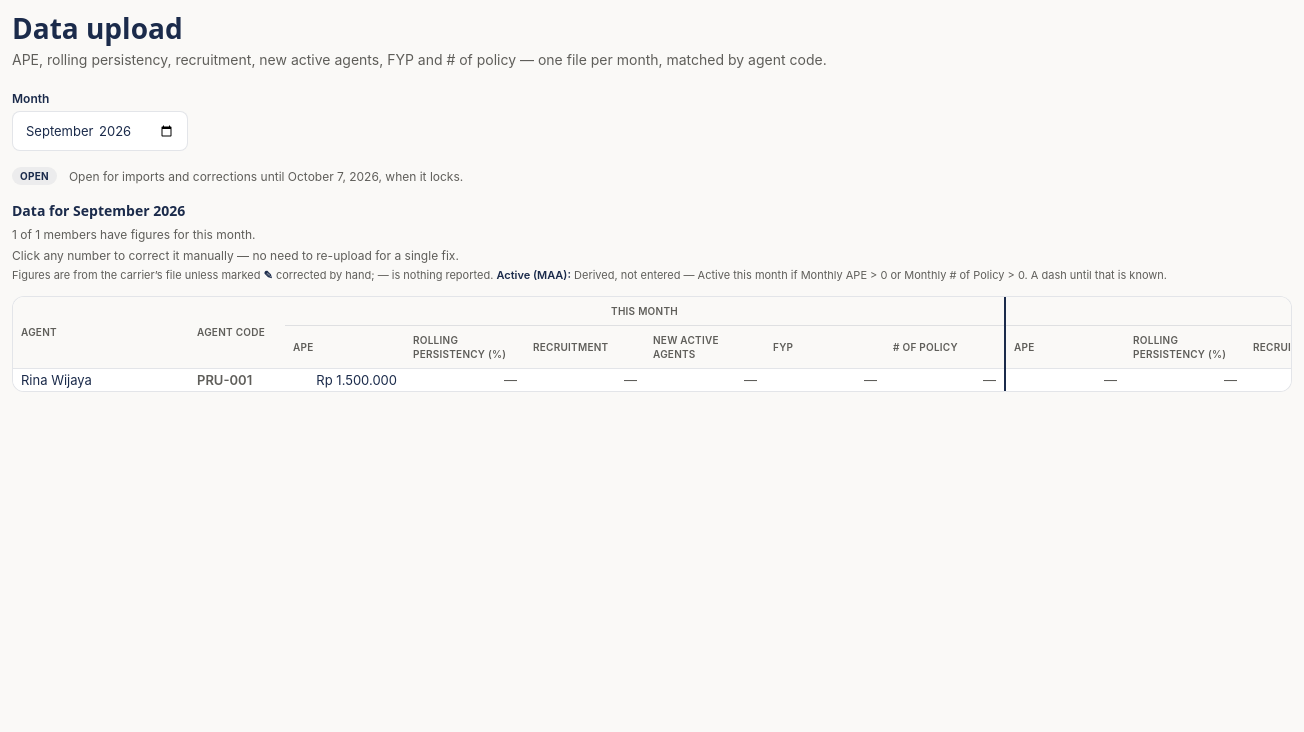
Test: Data upload — correcting one figure (P9-T5) › opens on the figure: what it reads now and where it came from, typed in rupiah, grouped
Click the button with aria-label "Correct APE this month for Rina Wijaya, now Rp 1.500.000".
click(357, 380)  # box [312,372,401,388]
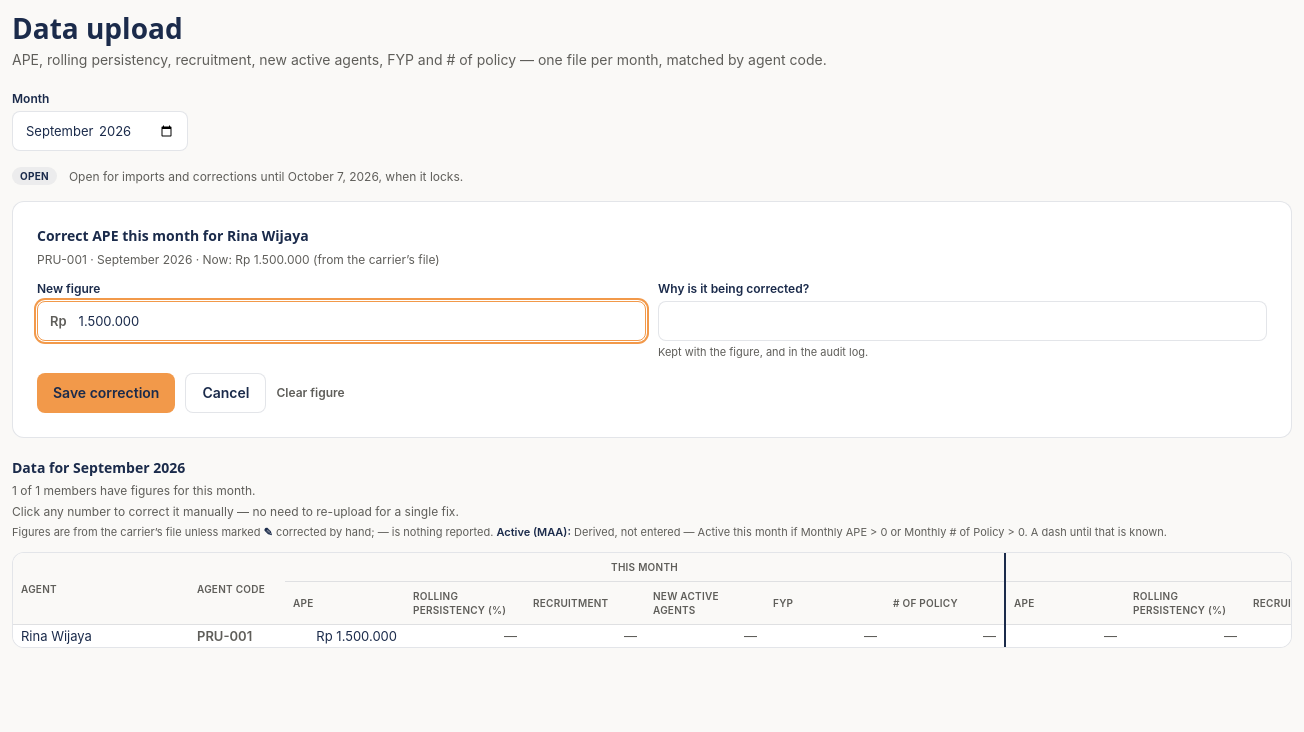
Check: the element "Correct APE this month for Rina Wijaya" shows "PRU-001 · September 2026 · Now: Rp 1.500.000 (from the carrier’s file)", box [12,201,1292,438]
Check: the field labelled "New figure" holds "1.500.000"
Replace the text in the field labelled "New figure" with "2000000" at (362, 321), box [79,302,645,340]
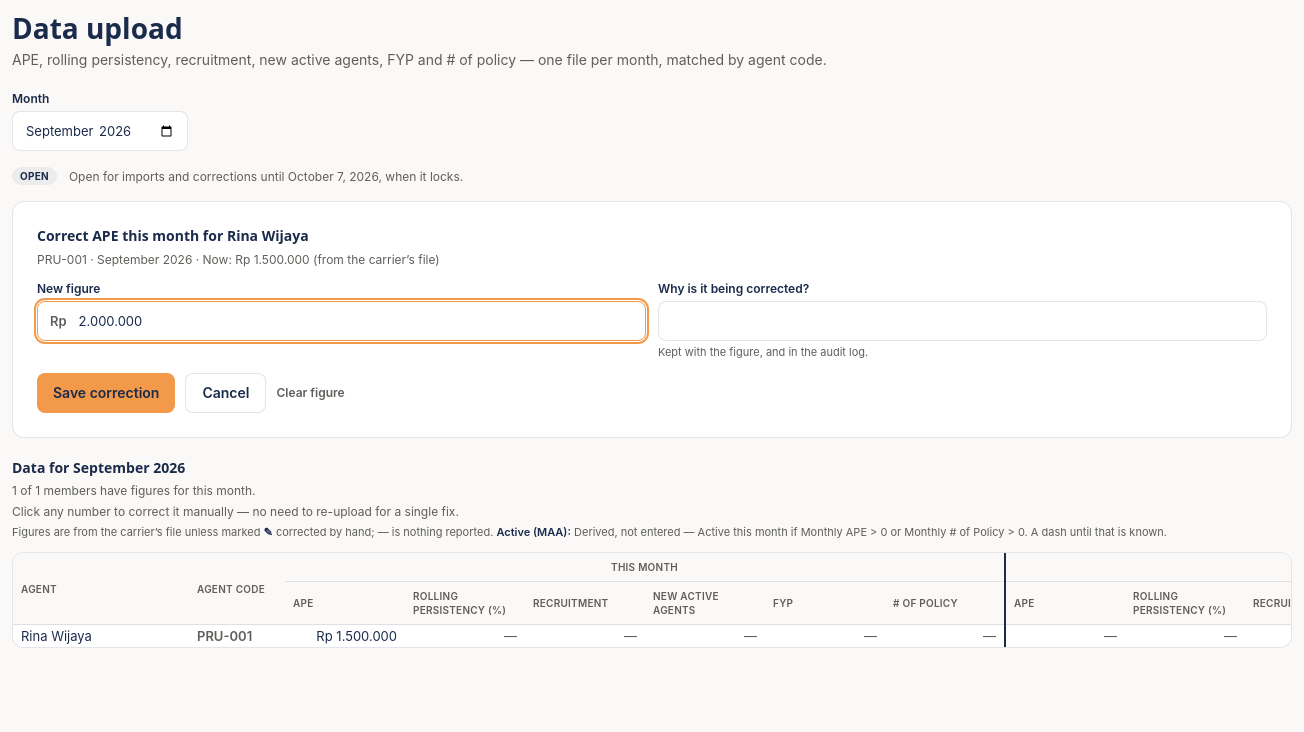
Check: the field labelled "New figure" holds "2.000.000", box [79,302,645,340]
